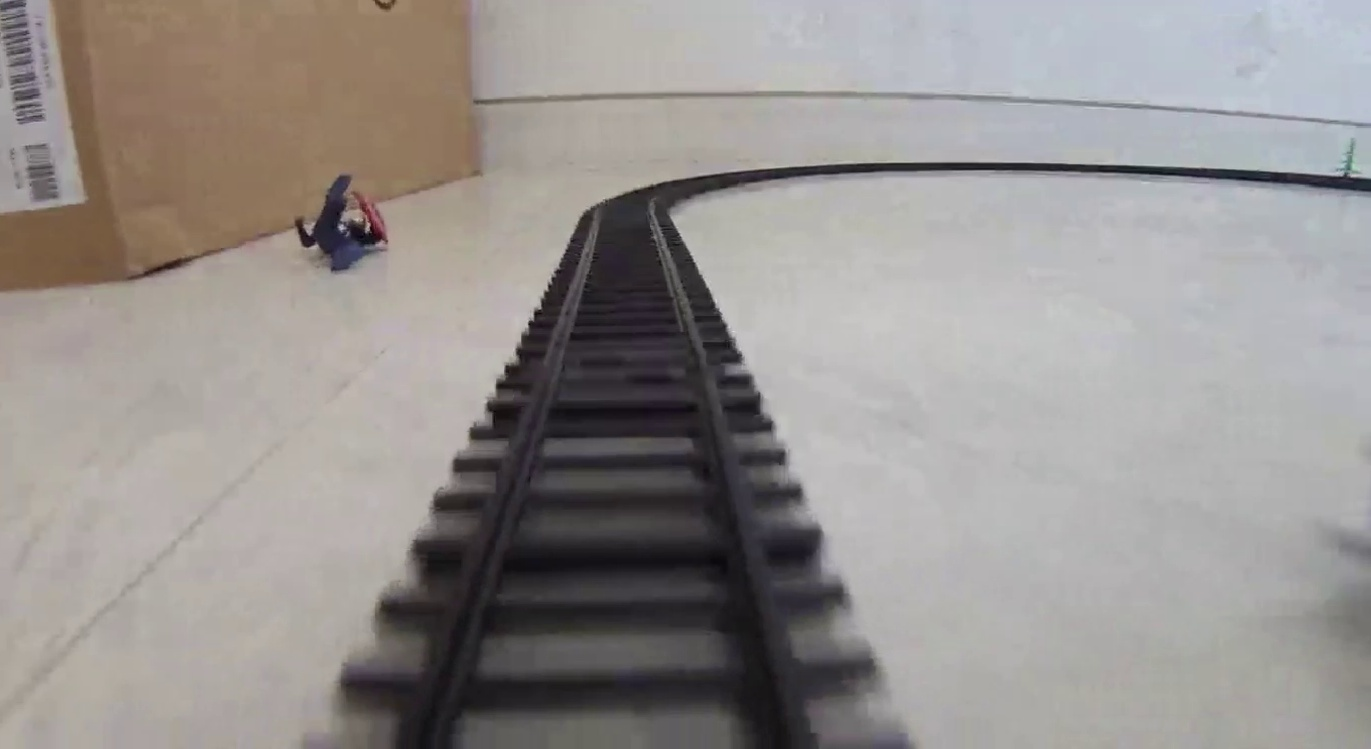people: (297, 173, 396, 274)
